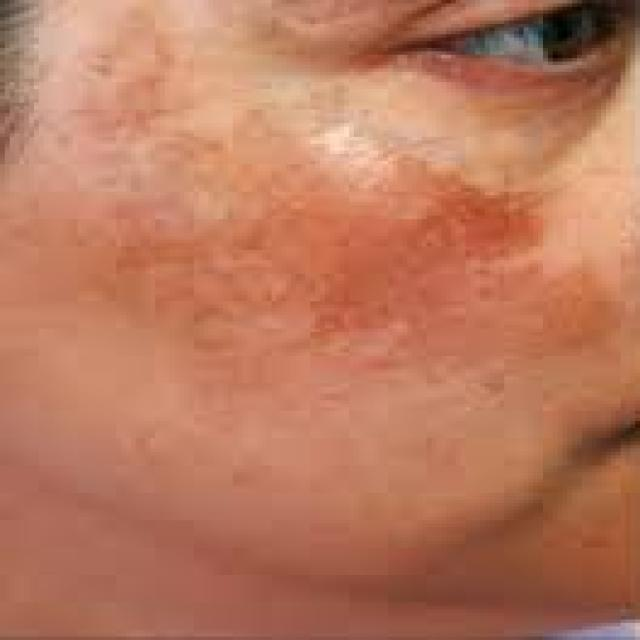pigmentation: (244, 157, 560, 304)
